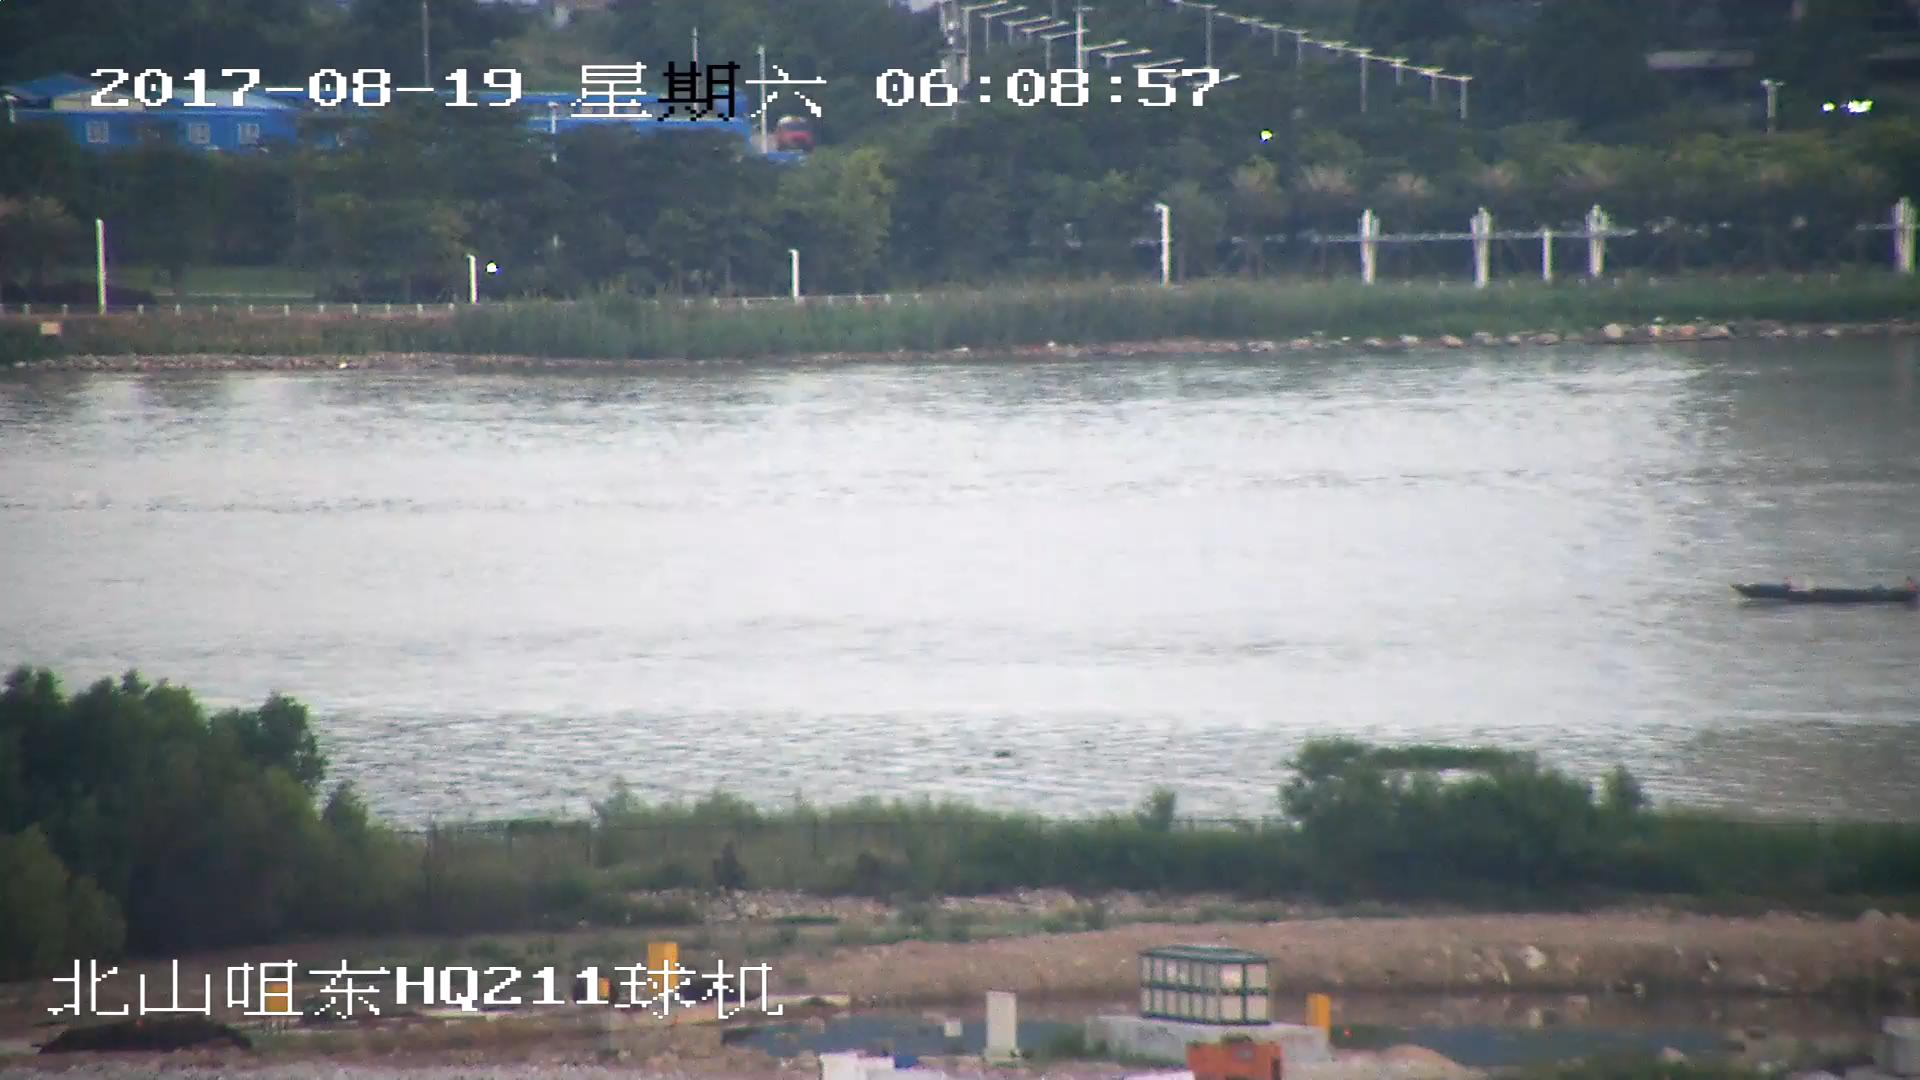fishing boat: (1735, 573, 1920, 602)
